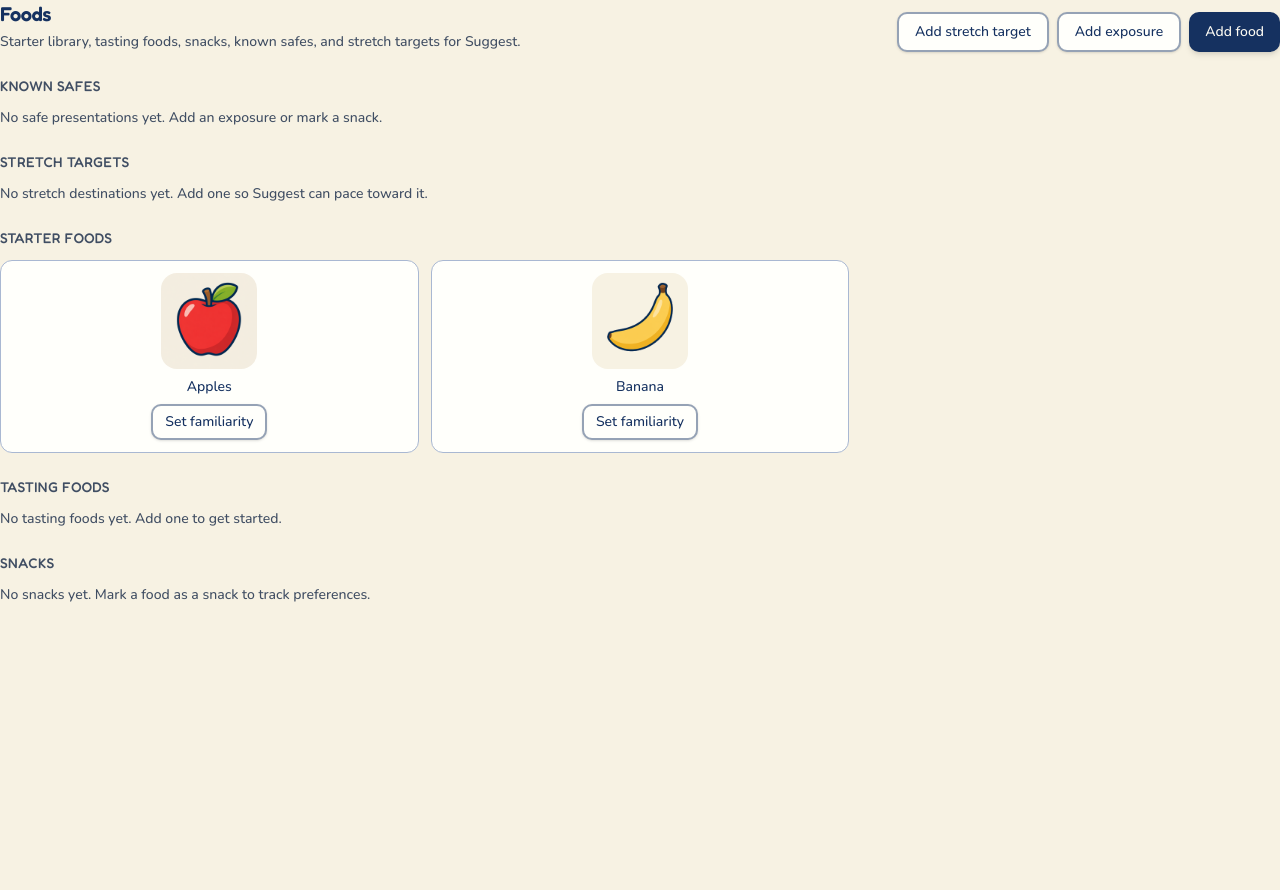
Test: FoodsPage › creates a household food with a generated icon from the name
This screenshot has width=1280, height=890.
Expected: the text "Apples" is shown, [187,377,232,396]
Click the button "Add food" at [1235, 32], box [1189,12,1279,52]
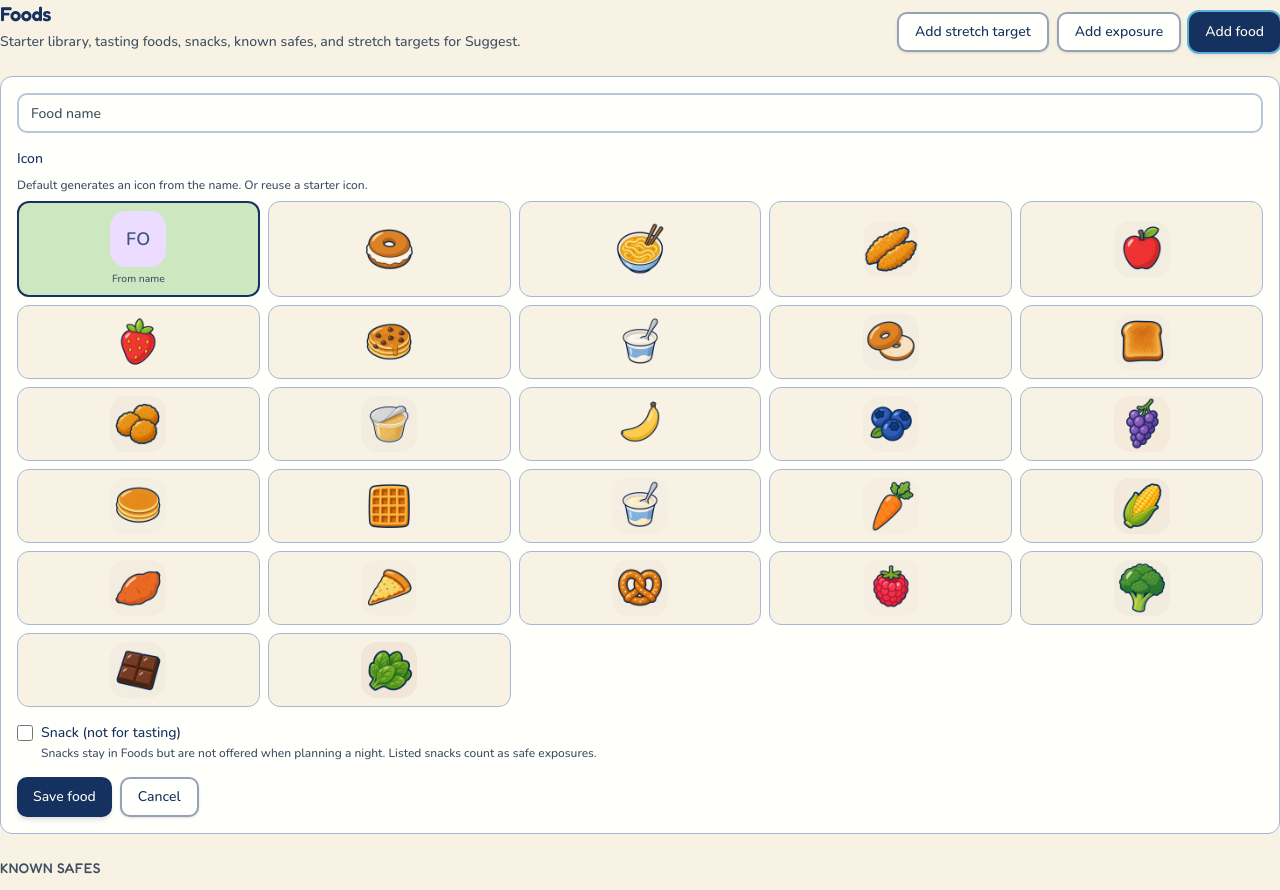
Type "Cucumber" into the field labelled "Food name" at [640, 113], box [17,93,1263,133]
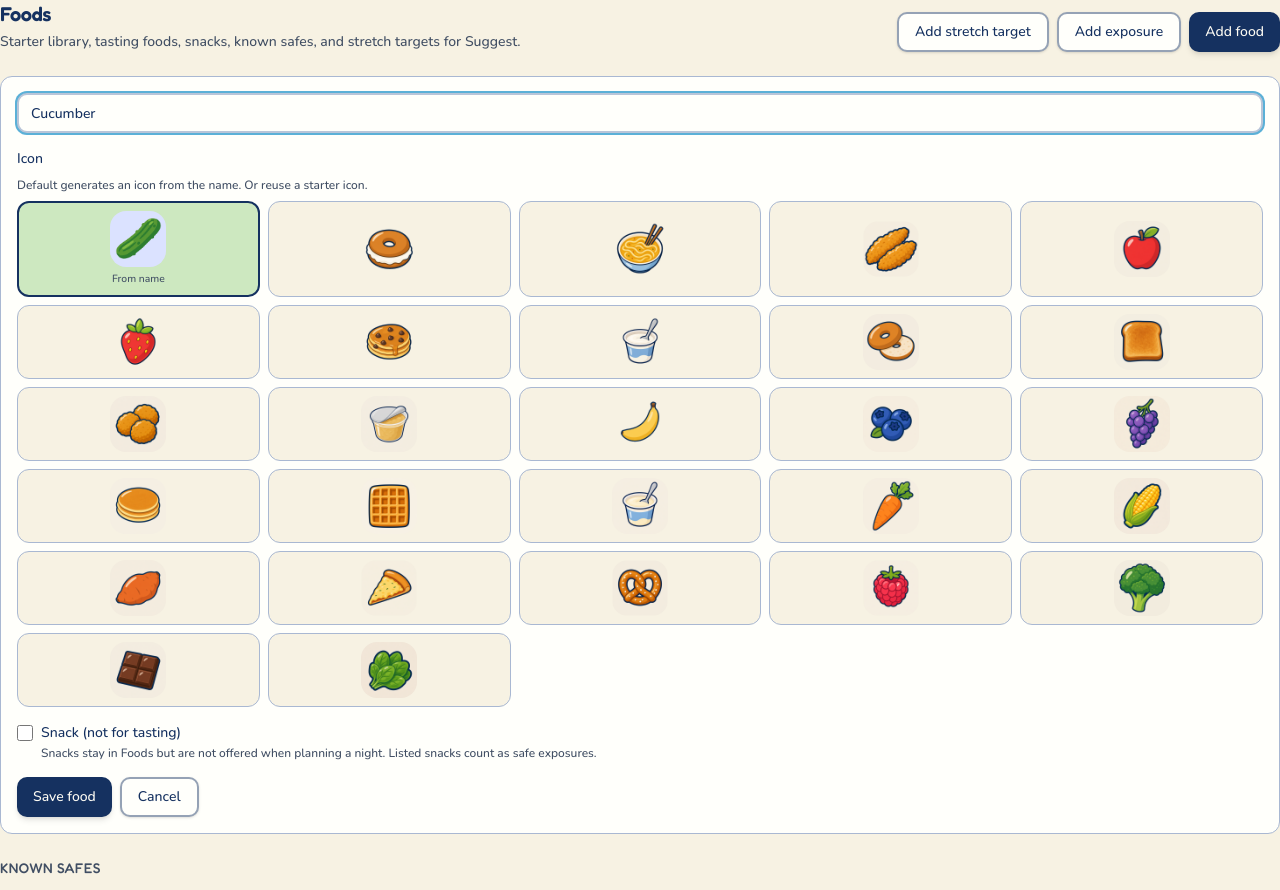
Click the button "Save food" at [64, 797], box [17,777,112,817]
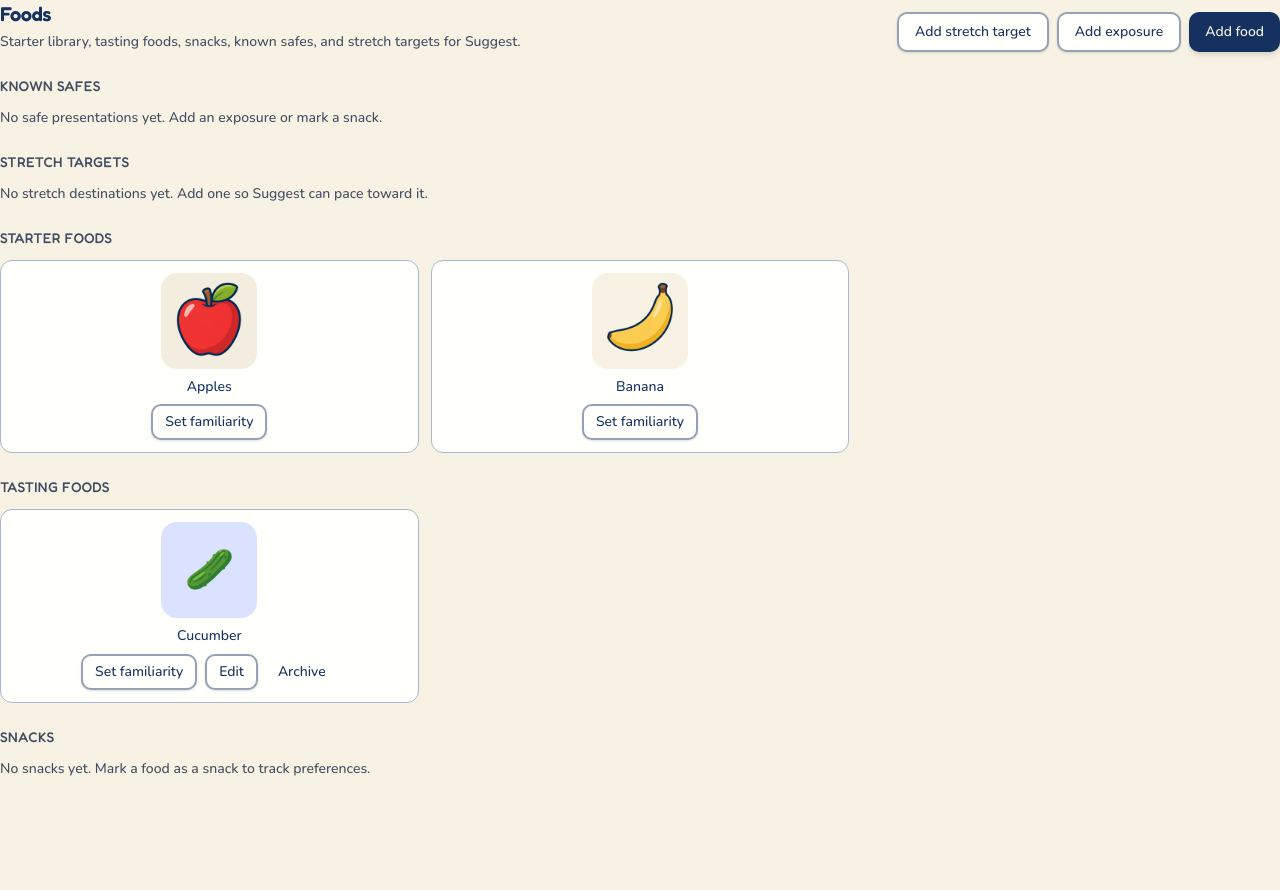
Expected: the heading "Tasting foods" is shown, [0,478,110,495]
Expected: the text "Cucumber" is shown, [177,626,242,646]
Expected: the button "Edit" is shown, [205,654,258,690]
